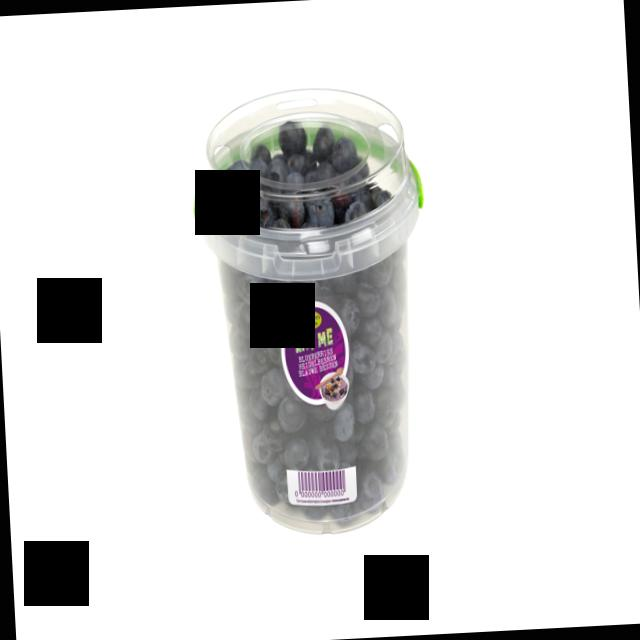blueberry: (191, 84, 425, 541)
